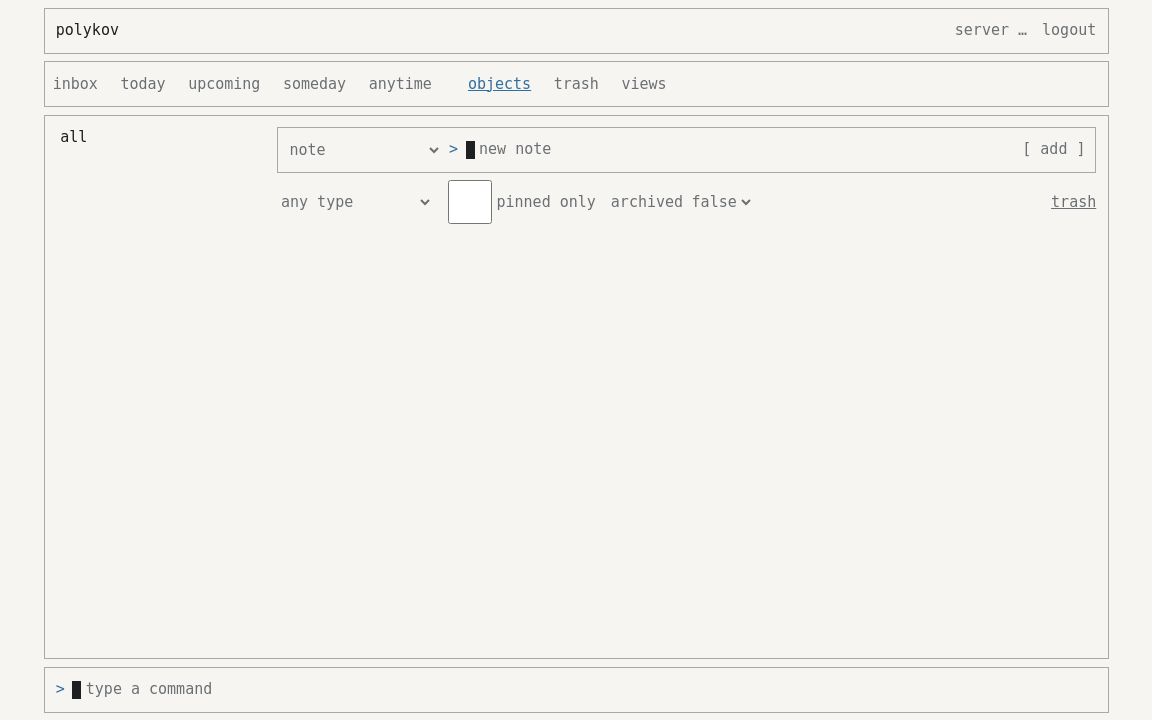
Test case: prompt › shows the block-cursor placeholder only while the input is empty
Expected: the text "type a command" is shown, [72,680,212,698]
Type "today" into the field named "command".
click(584, 690); type("today")  # box [72,668,1096,712]
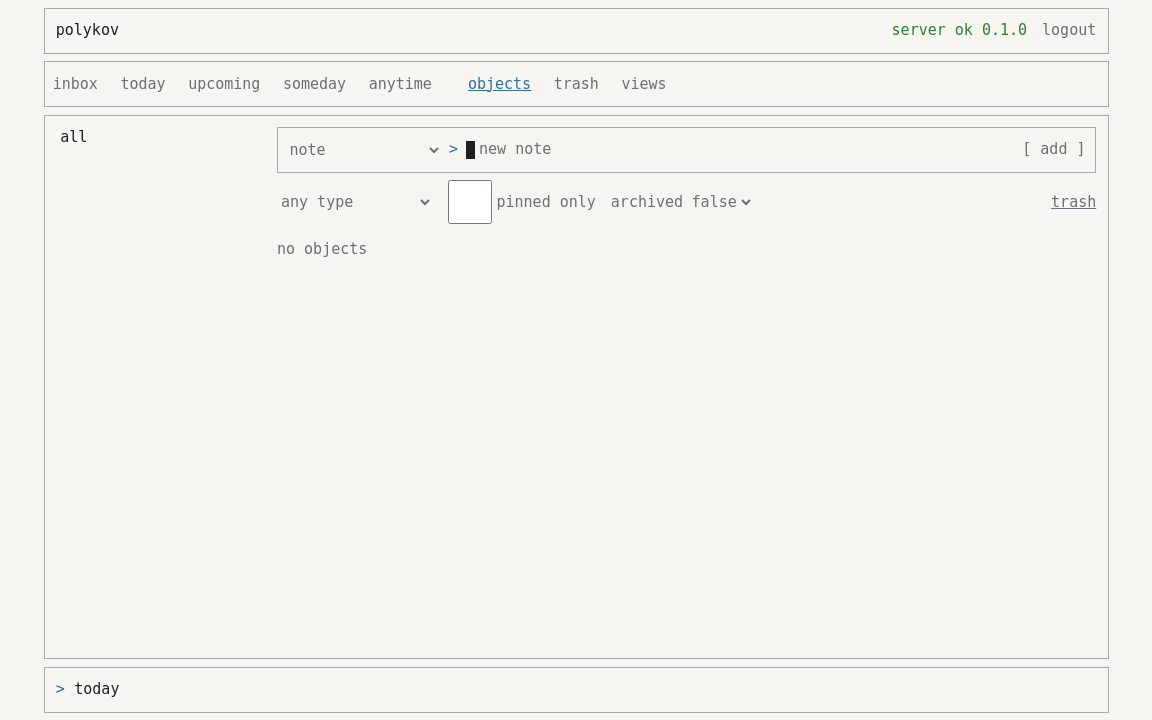
Expected: the text "type a command" is gone
